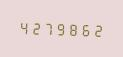eight: (65, 20, 76, 37)
four: (17, 18, 28, 35)
nine: (53, 19, 64, 37)
seven: (41, 19, 52, 36)
six: (77, 20, 88, 37)
two: (29, 18, 40, 36), (89, 20, 100, 38)
